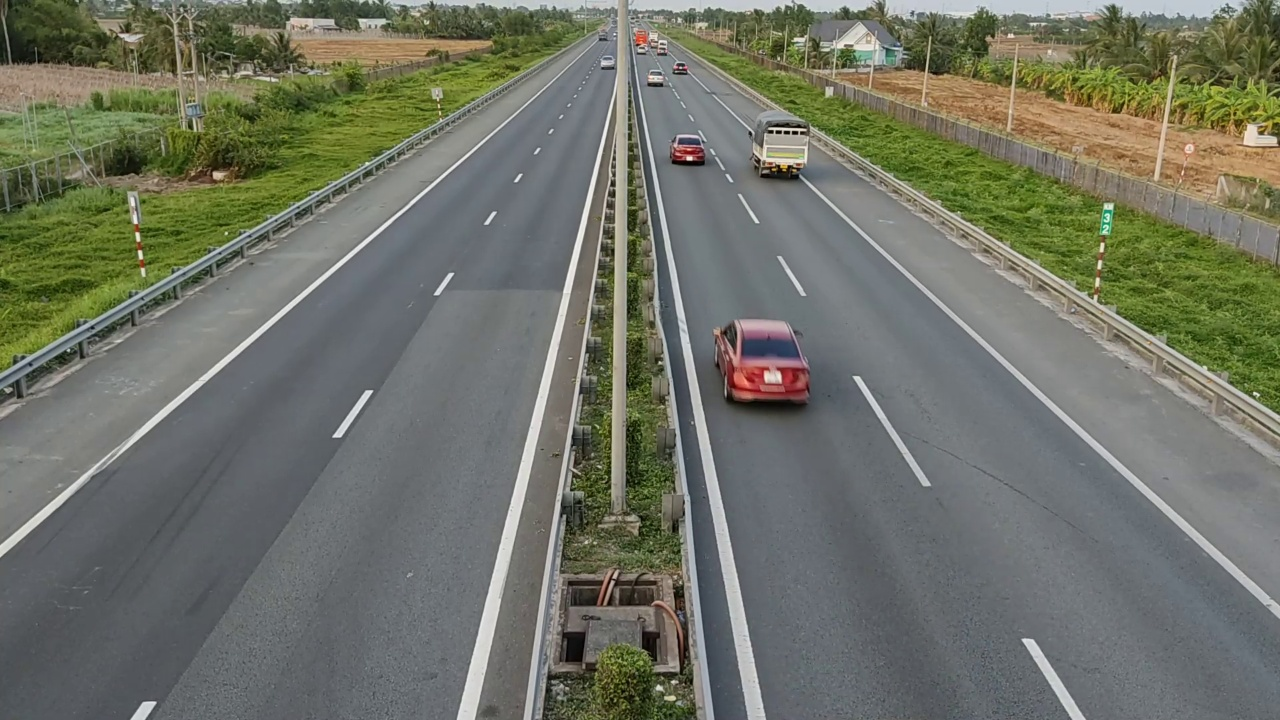car: (712, 318, 811, 405), (669, 133, 706, 165), (646, 69, 667, 86)
truck: (749, 109, 810, 179)
